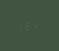four: (33, 20, 39, 31)
one: (18, 19, 24, 30)
six: (26, 19, 32, 31)
